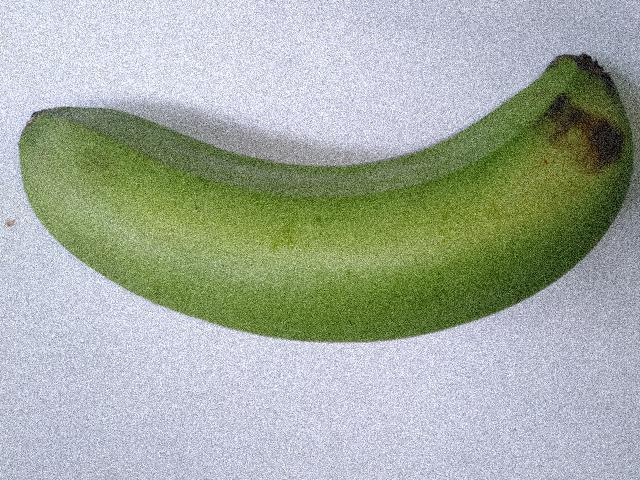freshunripe: (7, 50, 639, 353)
